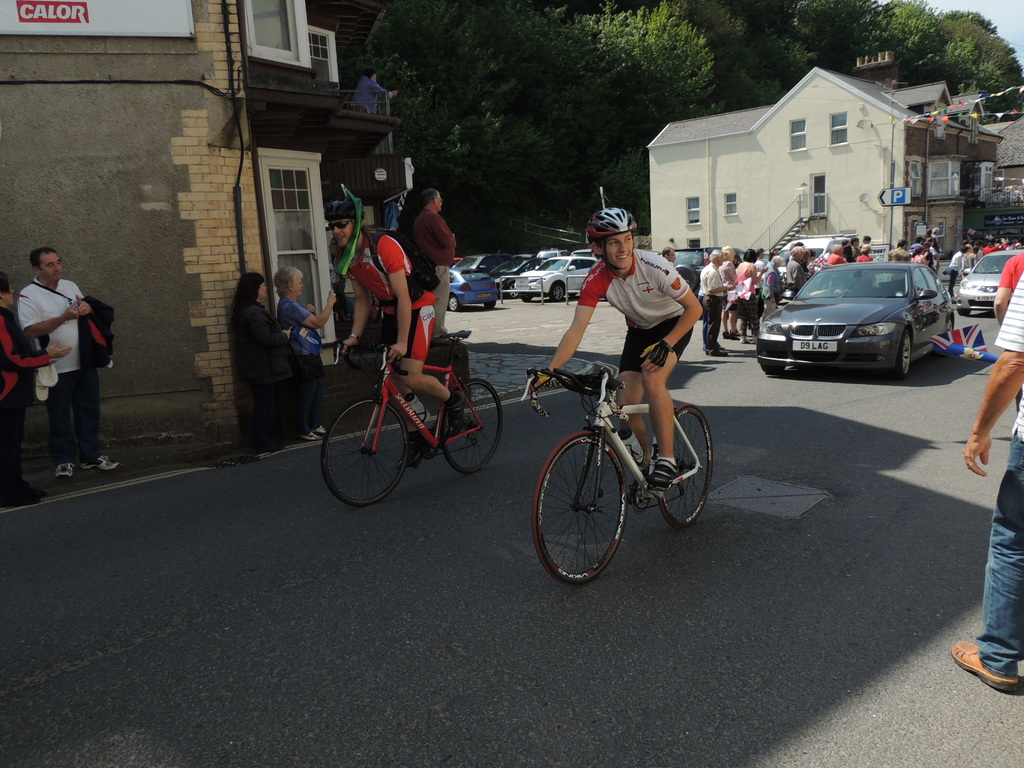Bike: (518, 351, 724, 589), (309, 330, 506, 507)
